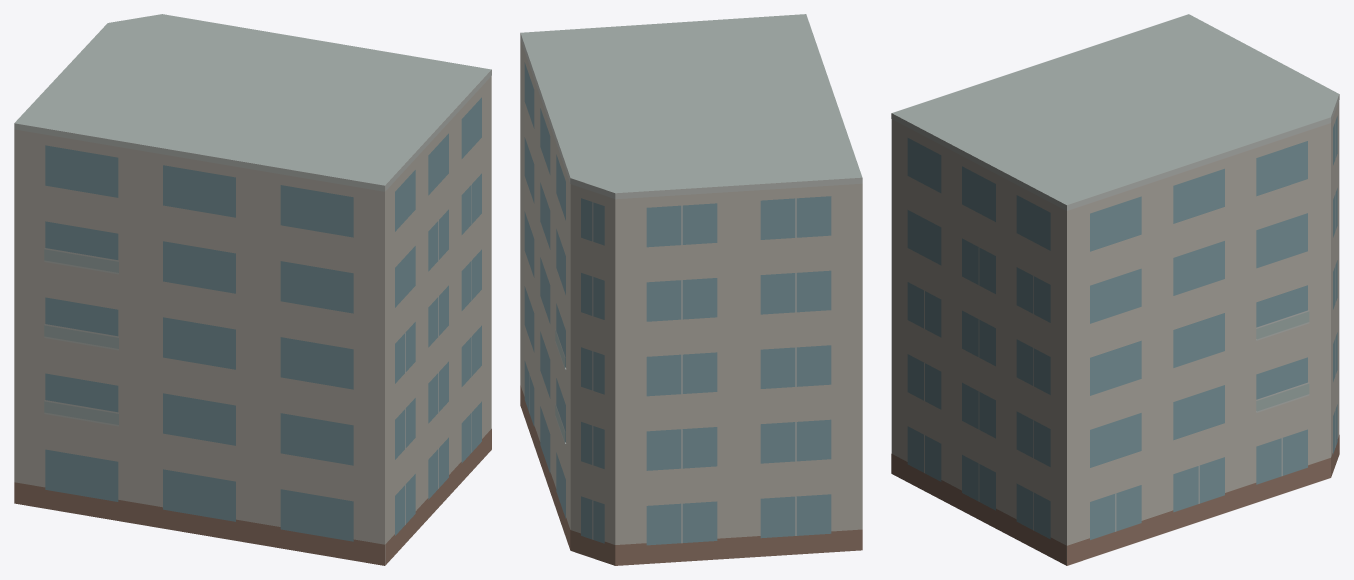
Rendered from survey-upis-32937993.glb.
3 renders of one model, left to right at view 1: azimuth 30°, elevation 25°; view 2: azimuth 150°, elevation 25°; view 3: azimuth 270°, elevation 25°, orthographic. The views are drawn at different scales.
Visible parts, largest first — view 1: survey-upis-32937993.tmp; view 2: survey-upis-32937993.tmp; view 3: survey-upis-32937993.tmp.
Part boxes in pixels (<box>): survey-upis-32937993.tmp: <box>14,14,491,565</box>; survey-upis-32937993.tmp: <box>520,14,862,565</box>; survey-upis-32937993.tmp: <box>891,14,1339,565</box>.
Bounding box in the file's own units: 17.24 × 15.15 × 17.06.
